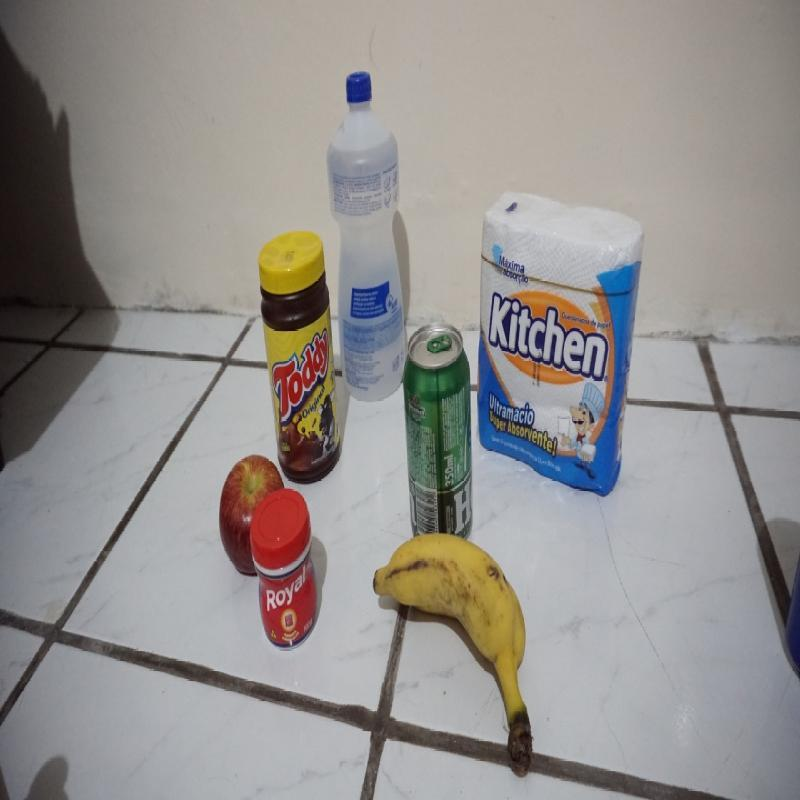Alcohol Bottle: (329, 71, 409, 401)
Apple: (216, 454, 286, 580)
Banana: (374, 534, 540, 773)
Beer can: (403, 323, 473, 542)
Chocolate Powder: (258, 232, 344, 483)
Napkin: (480, 189, 643, 494)
Yeast: (251, 492, 321, 650)
